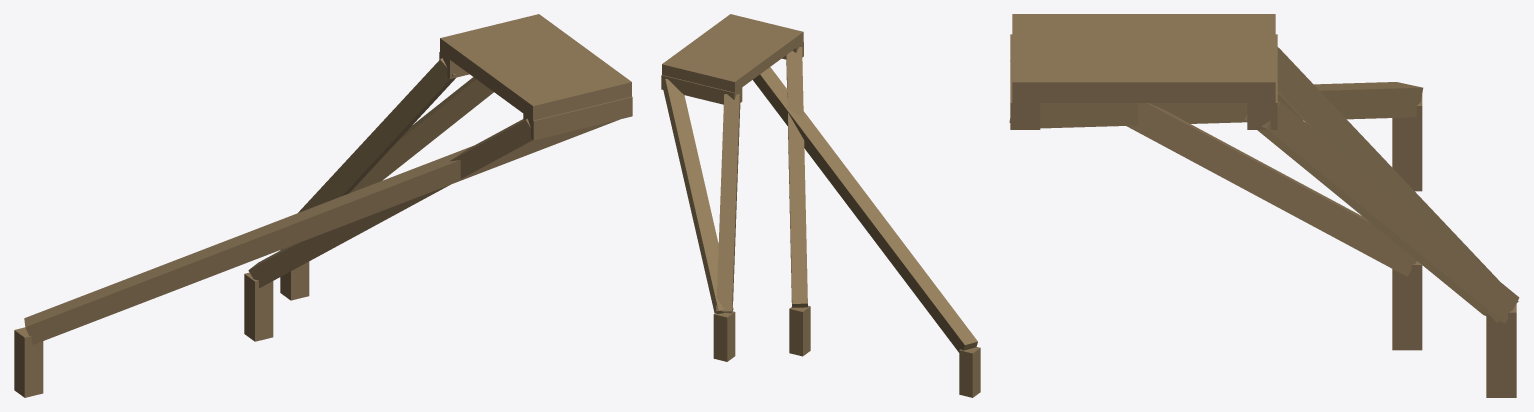
Rendered from receiver.glb.
3 views of the same model, side by side, from view 1: azimuth 30°, elevation 25°; view 2: azimuth 150°, elevation 25°; view 3: azimuth 270°, elevation 25° (orthographic). The views are drawn at different scales.
Visible parts, largest first — view 1: receiver-joined-timber; view 2: receiver-joined-timber; view 3: receiver-joined-timber.
Boxes of the visible parts, left/top/right/bottom form: receiver-joined-timber: left=14, top=14, right=632, bottom=397; receiver-joined-timber: left=661, top=14, right=980, bottom=397; receiver-joined-timber: left=1009, top=14, right=1519, bottom=397.
Size of the model in its own units: 4.14 by 2.48 by 2.71.
